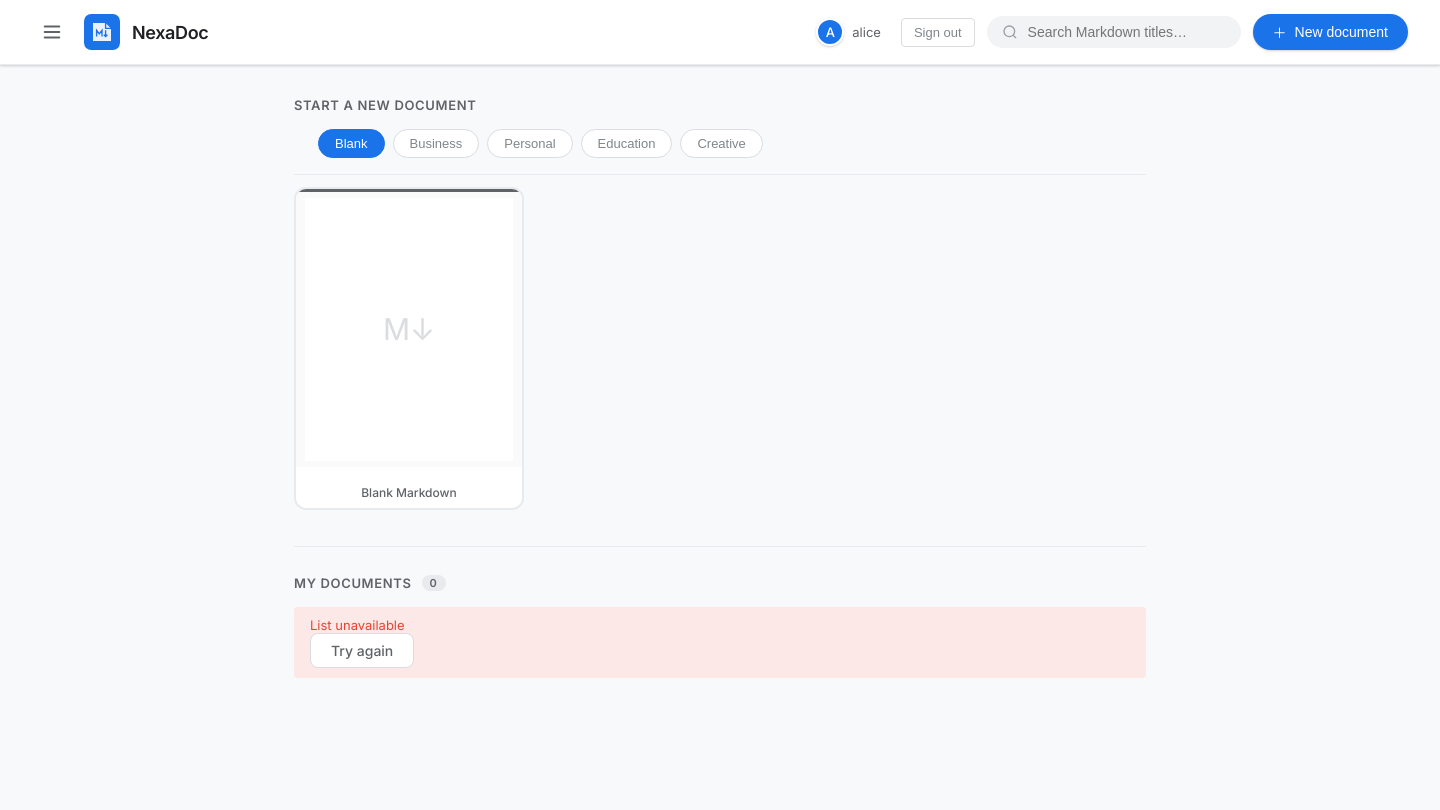
Test: MarkdownHome › shows a list error and allows retry without removing the template gallery
This screenshot has width=1440, height=810.
Expected: the message shows "List unavailable", [310, 617, 405, 633]
Expected: the button "M↓ Blank Markdown" is shown, [294, 187, 524, 510]
Click the button "Try again" at coordinates (362, 650), box [310, 633, 414, 668]
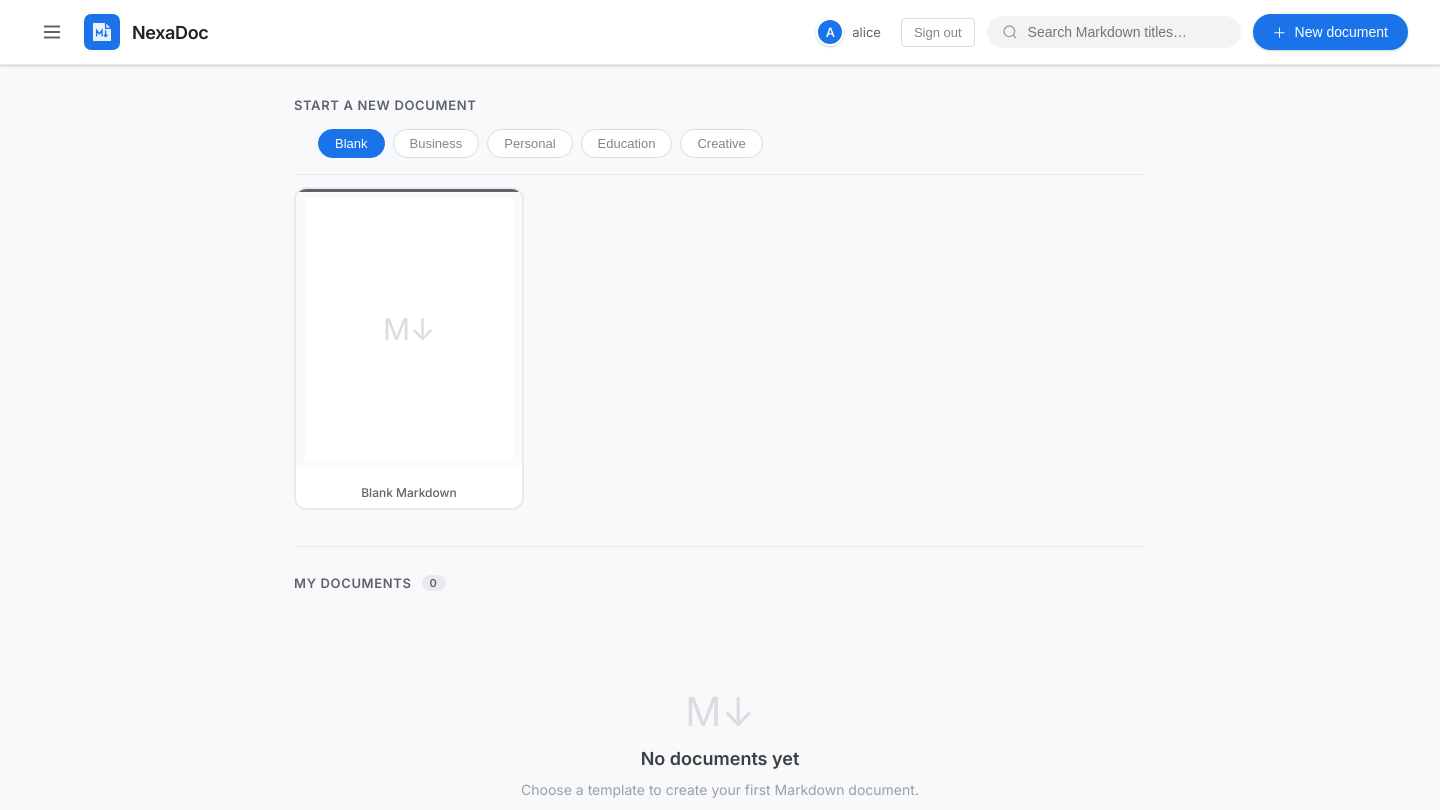
Expected: the heading "No documents yet" is shown, [641, 748, 799, 769]
Expected: the message "List unavailable Try again" is gone
